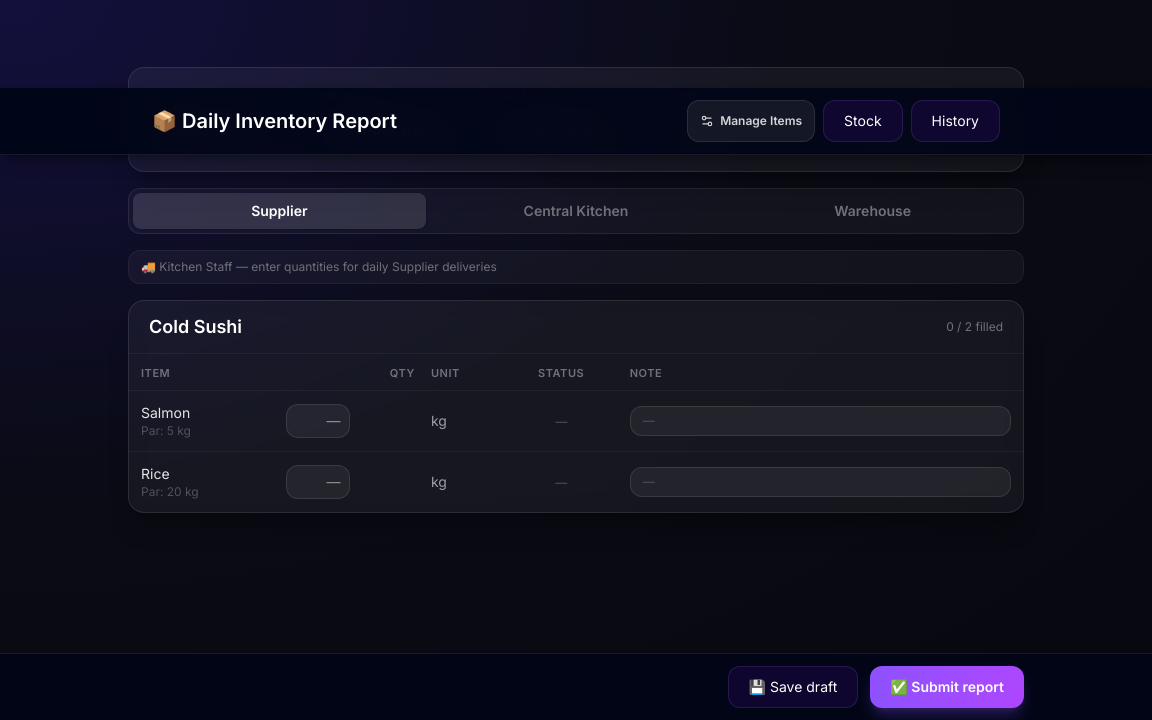
Test: AdminDailyInventoryTab — items loading › updates filled counter when a quantity is entered
The width and height of the screenshot is (1152, 720).
Check: the text "Salmon" is shown, box [141,404,190,421]
In the number field with placeholder "—" in the row of "Salmon": (318, 421) [286,404,350,438], type "3"
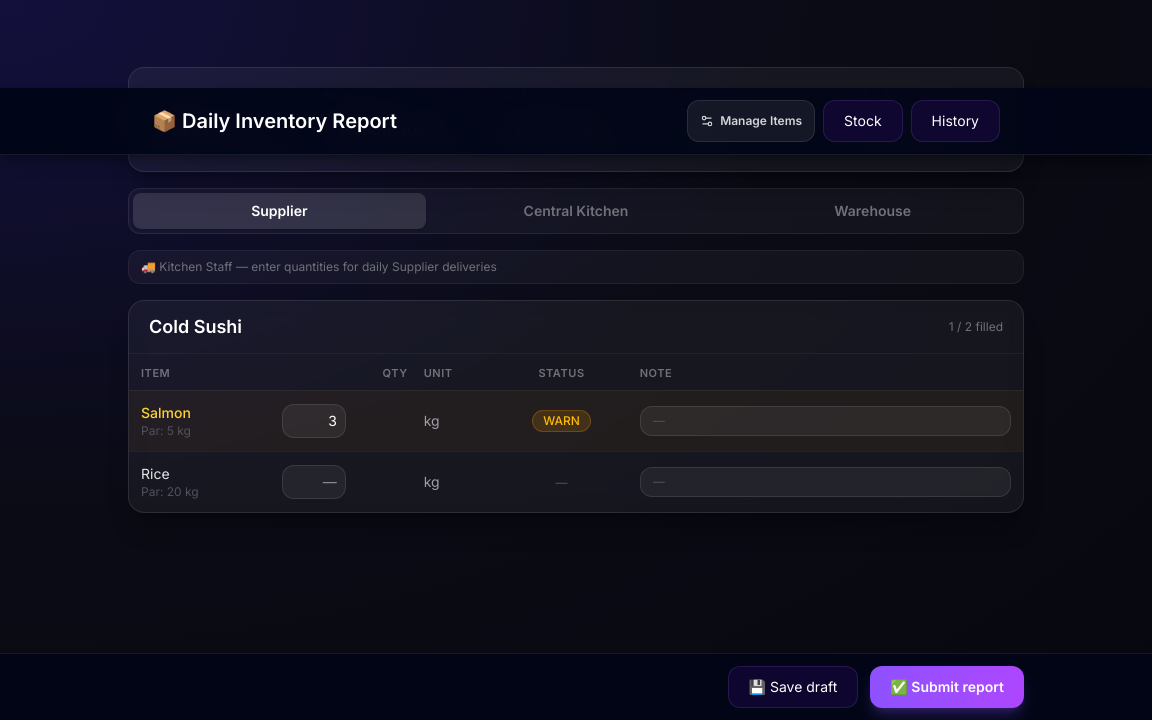
Check: the text "1 / 2 filled" is shown, box [949,319,1003,335]
